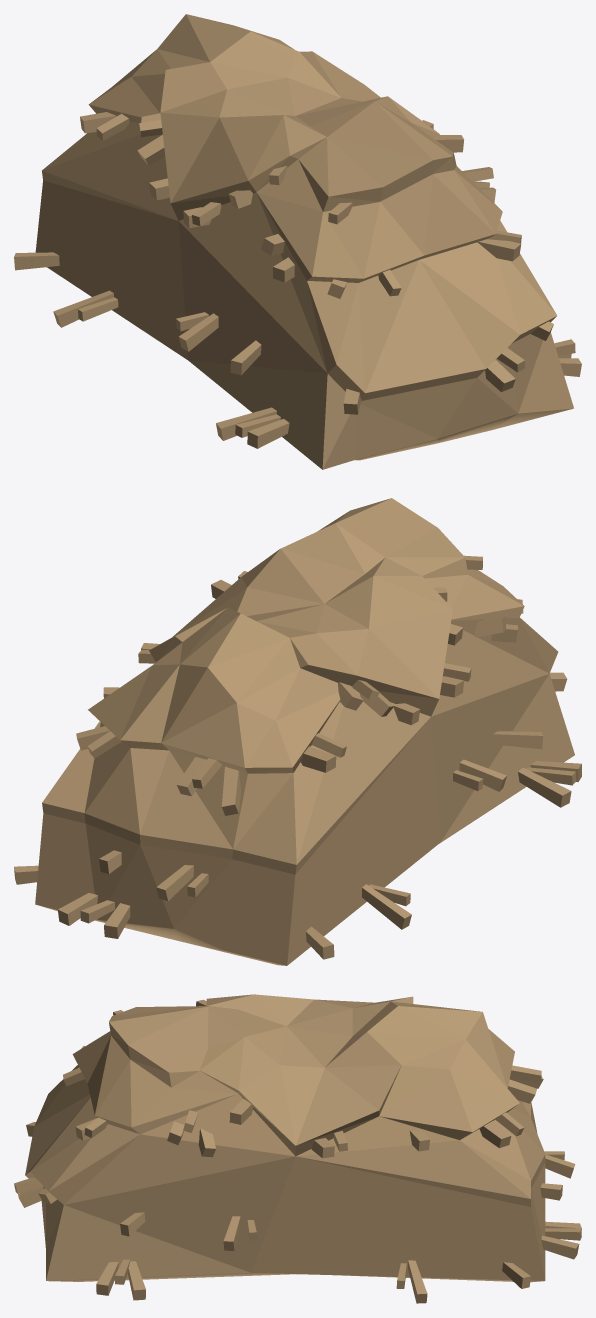
Rendered from prop_hay_cart.gltf.
3 renders of one model, top to bottom at view 1: azimuth 30°, elevation 25°; view 2: azimuth 150°, elevation 25°; view 3: azimuth 270°, elevation 25°, orthographic. The views are drawn at different scales.
Visible parts, largest first — view 1: prop_hay_cart; view 2: prop_hay_cart; view 3: prop_hay_cart.
Boxes of the visible parts, bbox=[...] form: prop_hay_cart: bbox=[14, 14, 581, 469]; prop_hay_cart: bbox=[14, 498, 581, 965]; prop_hay_cart: bbox=[14, 994, 581, 1303].
Bounding box in the file's own units: 1.65 × 1.23 × 2.64.
1 material, 1 textured.
